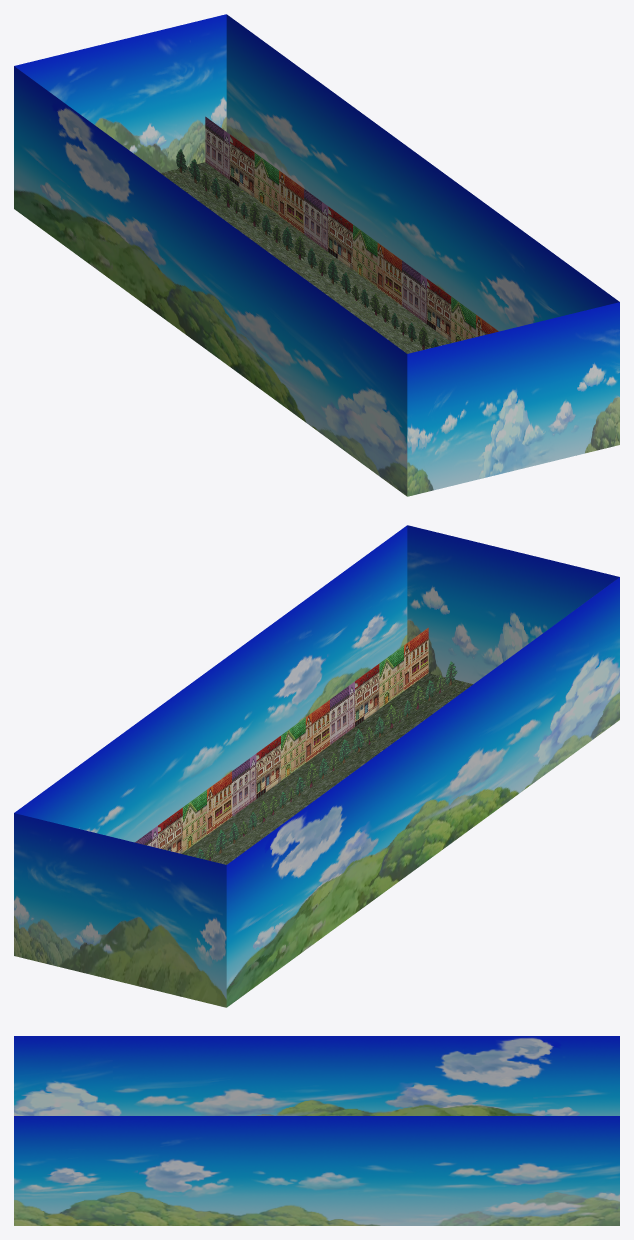
The model's file is road_all_01.obj.
3 views of the same model, one above another, from view 1: azimuth 30°, elevation 25°; view 2: azimuth 150°, elevation 25°; view 3: azimuth 270°, elevation 25° (orthographic). The views are drawn at different scales.
Visible parts, largest first — view 1: Plane.006, Plane.002, Plane, Plane.001; view 2: Plane.006, Plane.002, Plane, Plane.001; view 3: Plane.006.
Boxes of the visible parts, <box> form: Plane.006: <box>14,14,619,496</box>; Plane.002: <box>205,116,498,342</box>; Plane: <box>160,162,451,353</box>; Plane.001: <box>176,149,438,349</box>; Plane.006: <box>14,525,619,1007</box>; Plane.002: <box>135,627,428,853</box>; Plane: <box>182,673,473,864</box>; Plane.001: <box>187,661,457,860</box>; Plane.006: <box>14,1036,619,1225</box>.
Size of the model in its own units: 12.48 by 8.02 by 40.
Materials: 42 (42 with a texture image).
